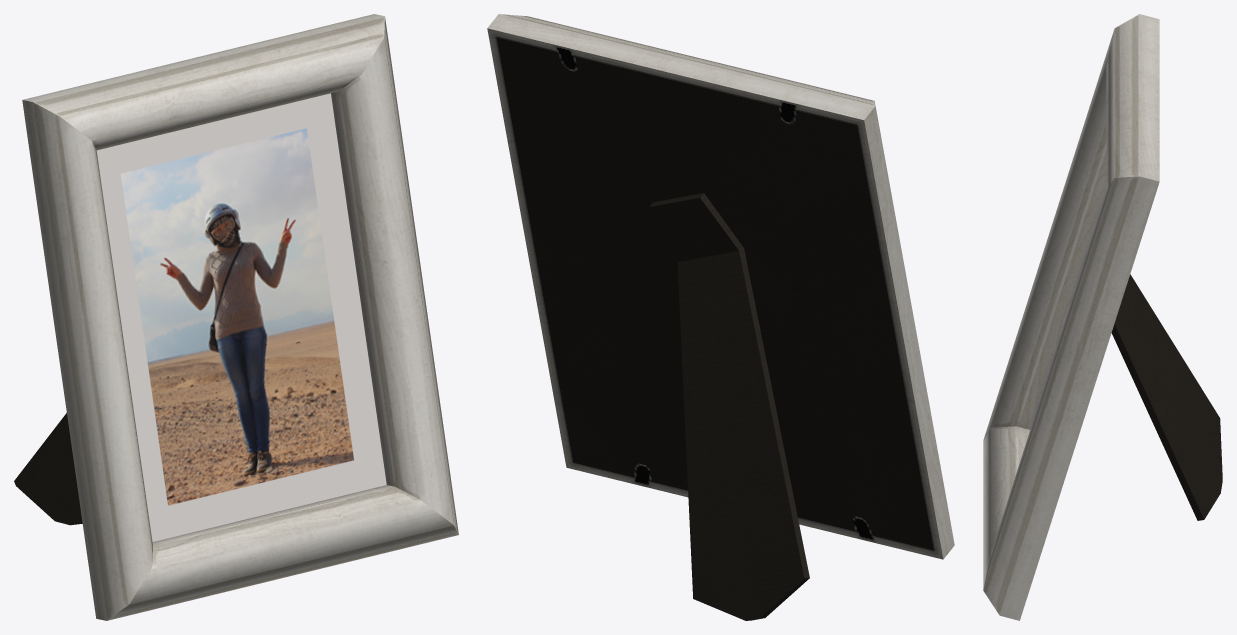
Rendered from PhotoFrameB.FBX.
3 views of the same model, side by side, from view 1: azimuth 30°, elevation 25°; view 2: azimuth 150°, elevation 25°; view 3: azimuth 270°, elevation 25° (orthographic). The views are drawn at different scales.
Parts seen in each view (by area): view 1: PhotoFrameB; view 2: PhotoFrameB; view 3: PhotoFrameB.
Boxes of the visible parts, x1,y1,x2,y2 form: PhotoFrameB: (14, 14, 458, 620); PhotoFrameB: (487, 14, 954, 620); PhotoFrameB: (983, 14, 1222, 620).
Bounding box in the file's own units: 6.3 × 8.05 × 3.93.
